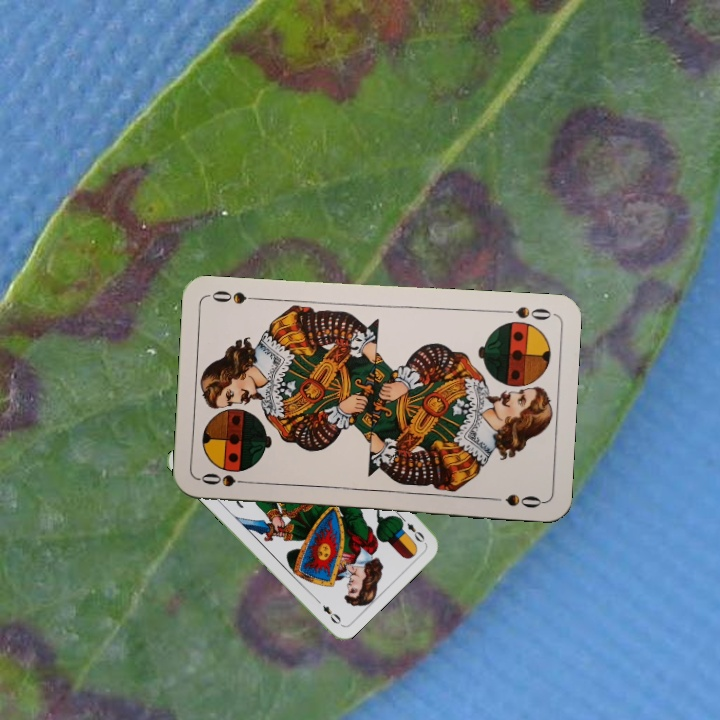EO: (395, 512, 427, 545)
SO: (197, 469, 256, 490), (496, 302, 553, 323)
